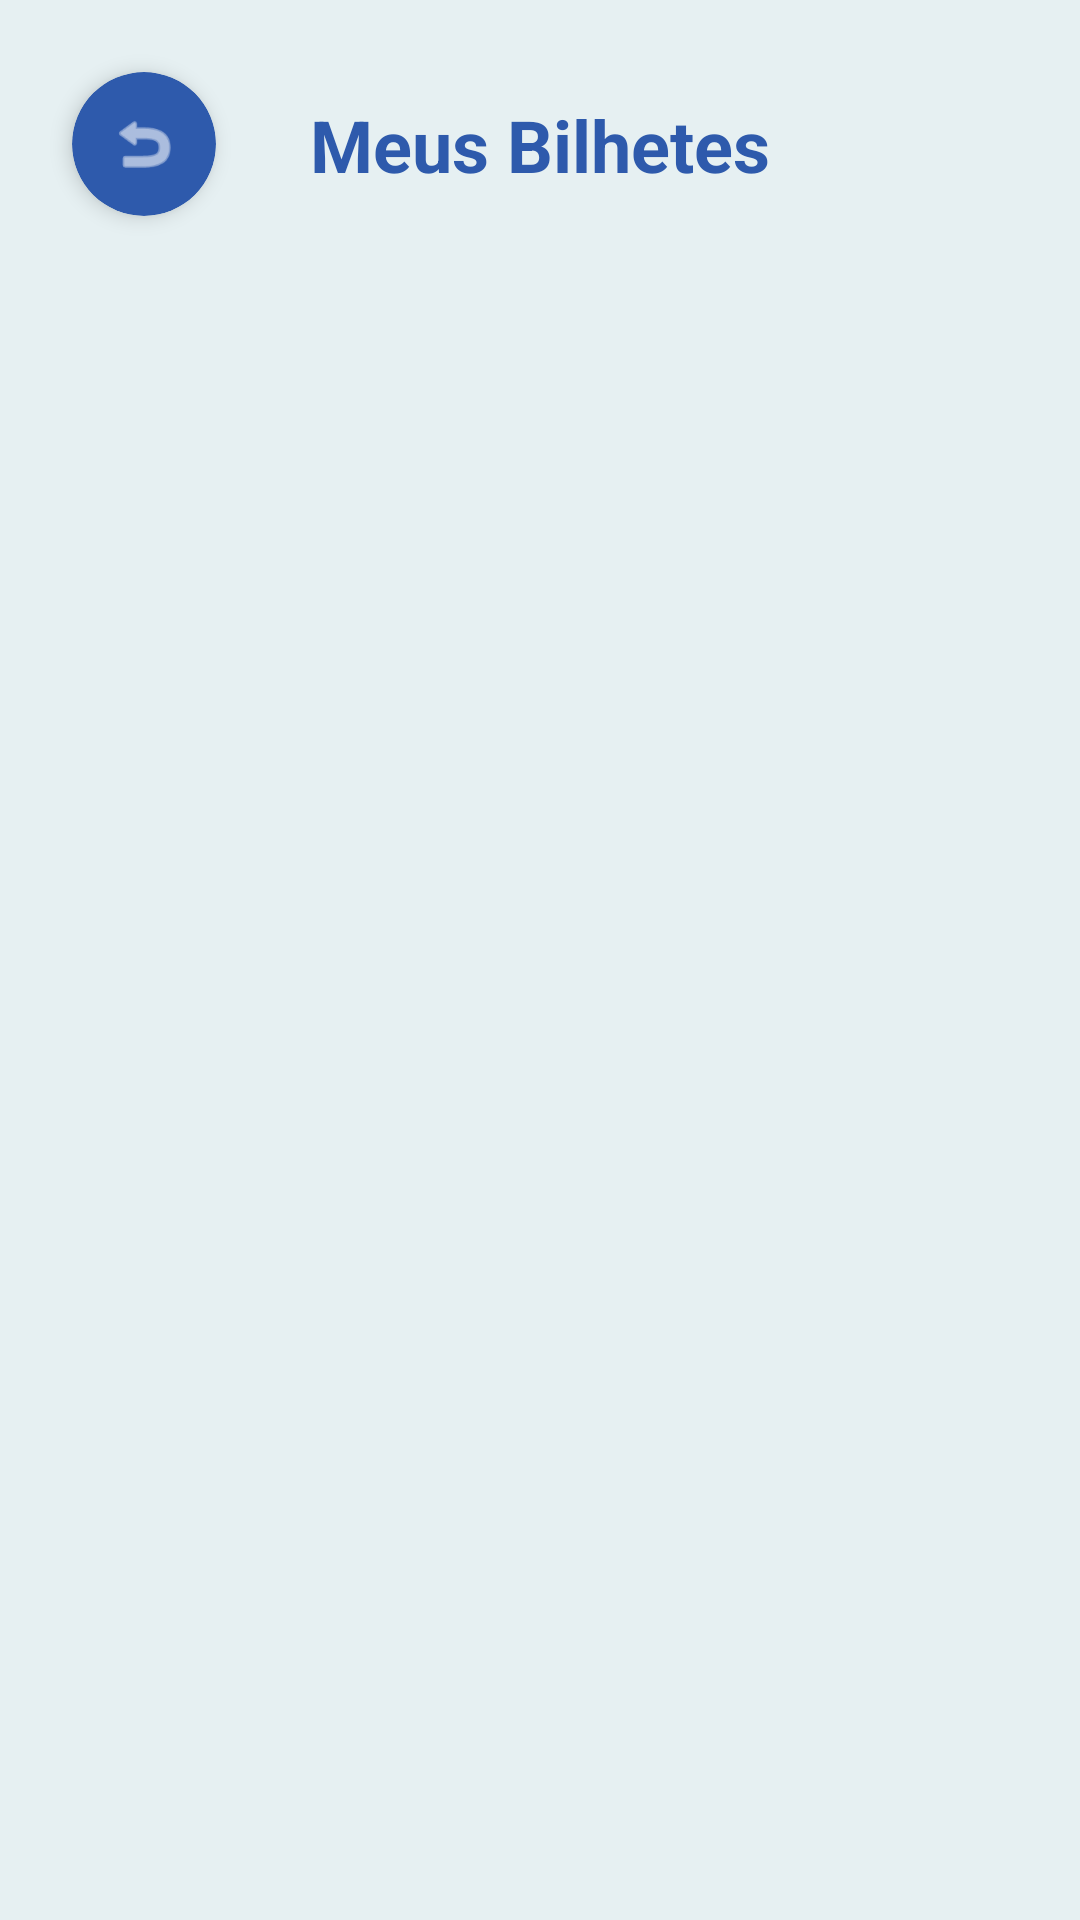

Where icons sit on this 1080px×1920px app screen, as (x1, y1, x2, y2):
Voltar: (72, 72, 216, 216)
